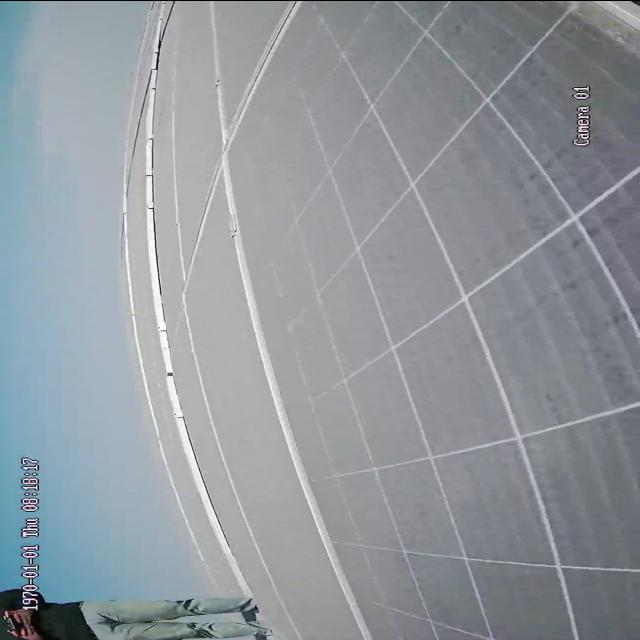interior panel: (201, 3, 384, 639), (575, 1, 637, 32)
